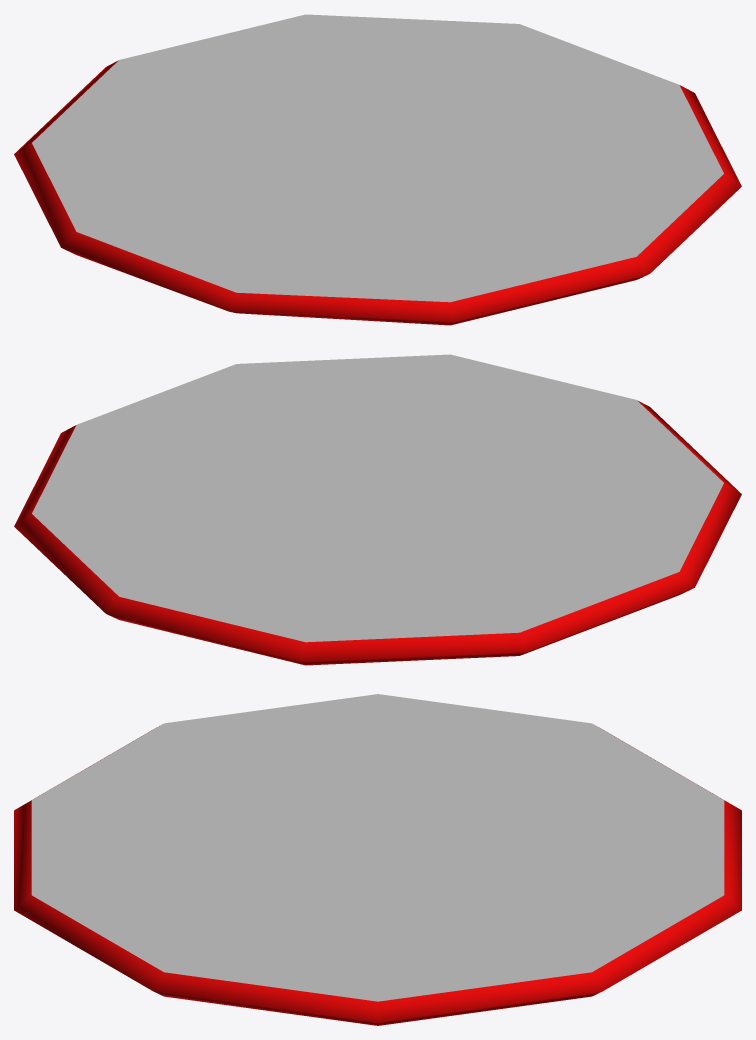
Rendered from TomatoCut.fbx.
3 views of the same model, one above another, from view 1: azimuth 30°, elevation 25°; view 2: azimuth 150°, elevation 25°; view 3: azimuth 270°, elevation 25° (orthographic). The views are drawn at different scales.
Parts seen in each view (by area): view 1: m_Tomato; view 2: m_Tomato; view 3: m_Tomato.
Boxes of the visible parts, left/top/right/bottom form: m_Tomato: left=14, top=14, right=741, bottom=325; m_Tomato: left=14, top=354, right=741, bottom=665; m_Tomato: left=14, top=694, right=741, bottom=1025.
Size of the model in its own units: 5.74 by 0.2012 by 5.46.
